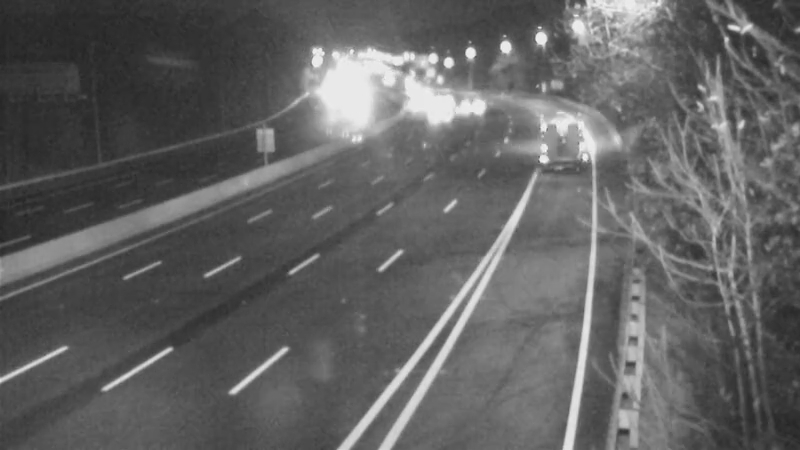vehicle: (397, 77, 447, 127), (445, 81, 495, 131), (417, 86, 467, 136), (531, 105, 581, 155)
